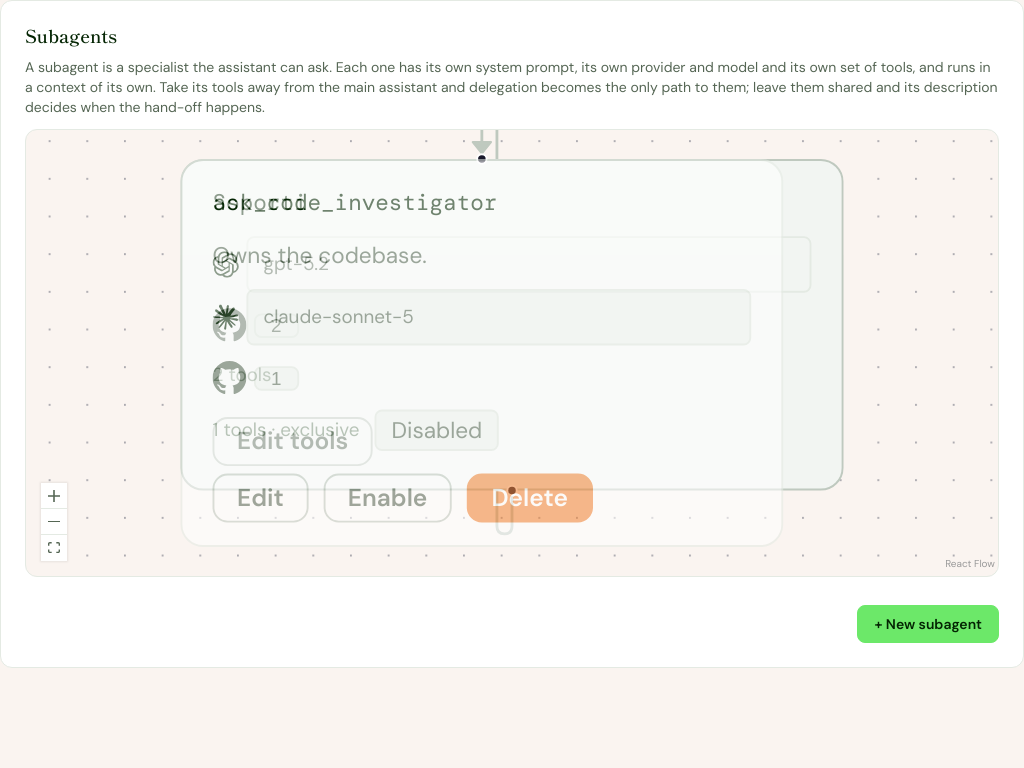
Test: AdminSubagents › shows the reason a toggle was refused
What coordinates should you click on to do the following:
click the button "Enable"
I would click on:
 (388, 498)
Its box is [323,474,452,522].
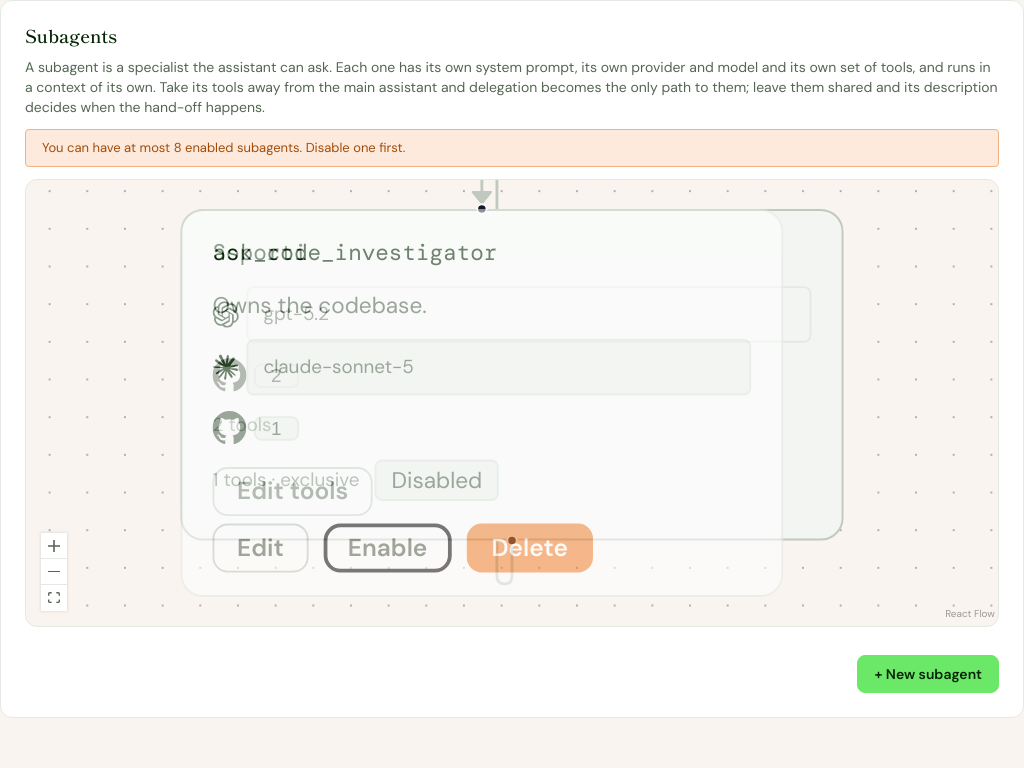
Expected: the text "You can have at most 8 enabled subagents. Disable one first." is shown, [25,129,999,167]
